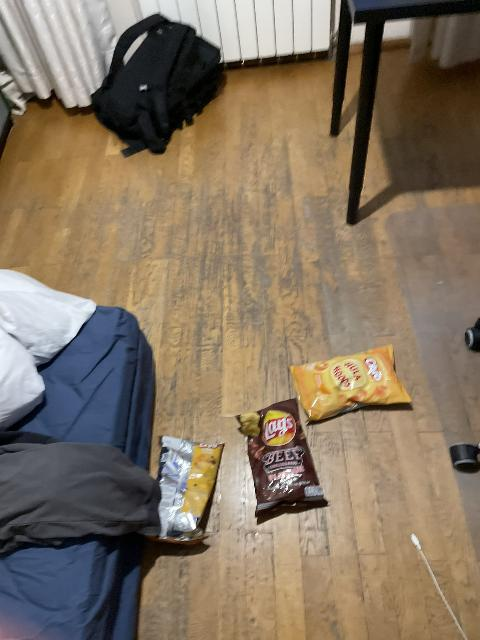Chio Cascaval 125g: (146, 433, 221, 543)
Chio Hula Hoops Cheese 70g: (294, 345, 411, 422)
Lays Beef Grilled Ribs 125g: (243, 397, 330, 518)
